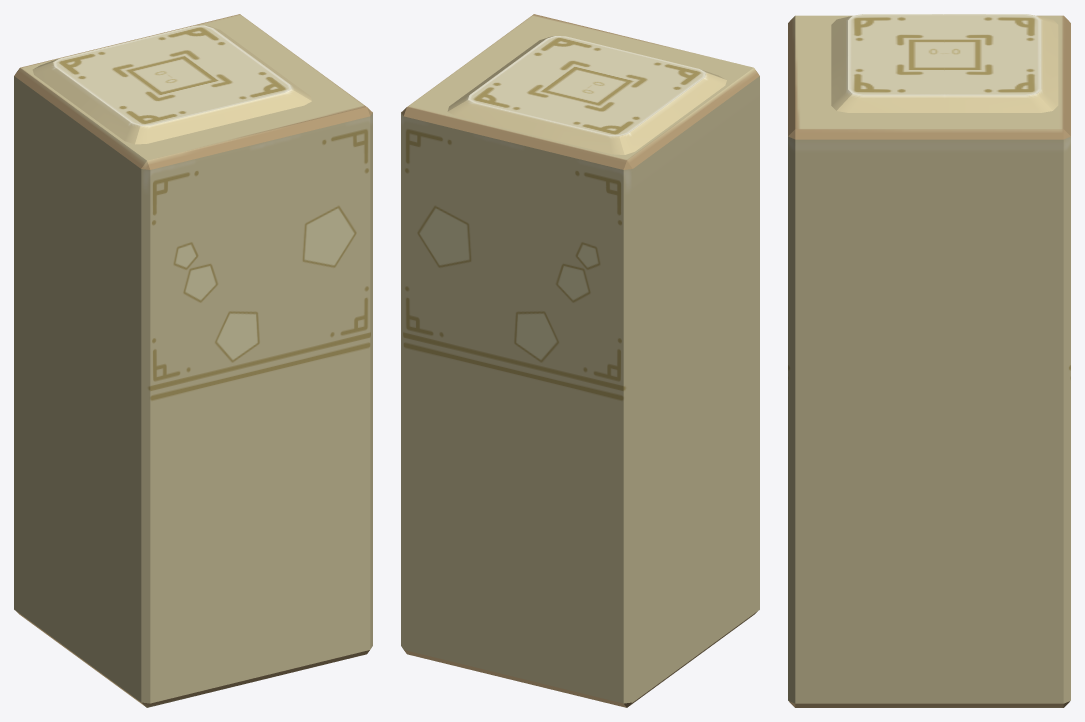
File: S4_InF_WallCorner_005.fbx
3 renders of one model, left to right at view 1: azimuth 30°, elevation 25°; view 2: azimuth 150°, elevation 25°; view 3: azimuth 270°, elevation 25°, orthographic. The views are drawn at different scales.
Visible parts, largest first — view 1: kakuninyouBlock; view 2: kakuninyouBlock; view 3: kakuninyouBlock.
Part boxes in pixels (x1,y1,x2,y2): kakuninyouBlock: (14, 14, 372, 707); kakuninyouBlock: (401, 14, 759, 707); kakuninyouBlock: (788, 14, 1070, 707).
Bounding box in the file's own units: 0.8889 × 2.04 × 0.8889.
